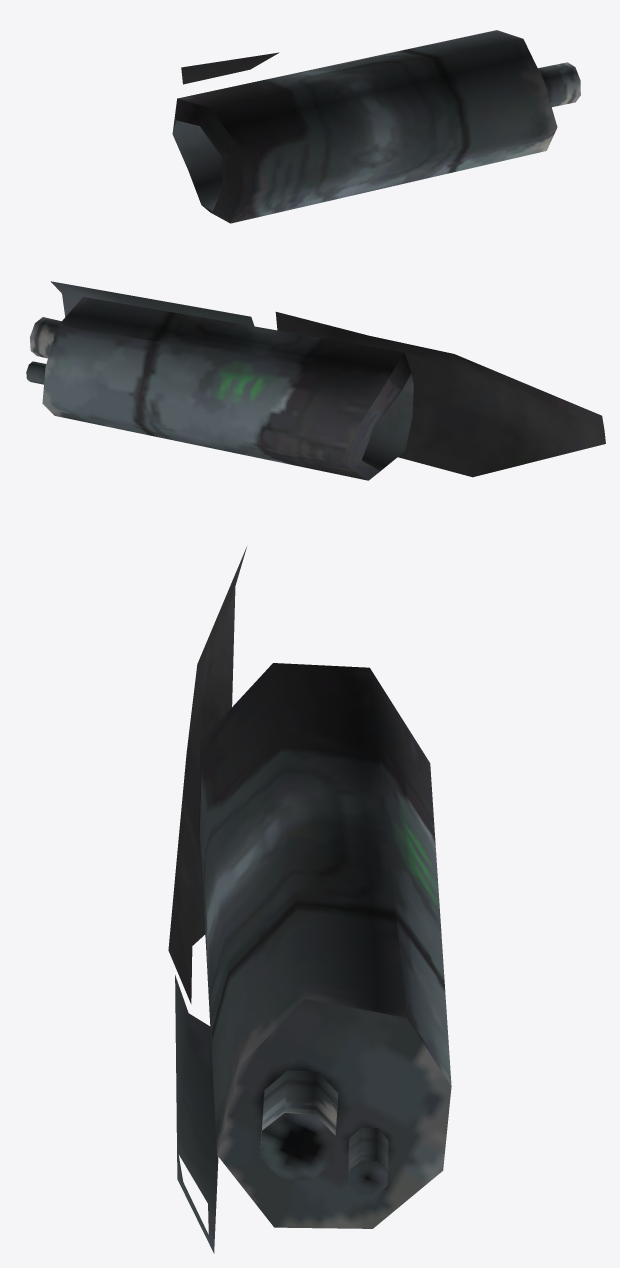
Rendered from latrobo_gun_left.glb.
The picture shows the model from 3 angles, top to bottom: view 1: azimuth 30°, elevation 25°; view 2: azimuth 150°, elevation 25°; view 3: azimuth 270°, elevation 25°; orthographic projection. The views are drawn at different scales.
Parts seen in each view (by area): view 1: latrobo_gun_left_0; view 2: latrobo_gun_left_0; view 3: latrobo_gun_left_0.
Boxes of the visible parts, box(x1,y1,x2,y2) form: latrobo_gun_left_0: box(172, 30, 580, 223); latrobo_gun_left_0: box(26, 281, 605, 480); latrobo_gun_left_0: box(168, 547, 451, 1253).
Bounding box in the file's own units: 32.7 × 8.63 × 7.2.
Materials: 1 (1 with a texture image).
